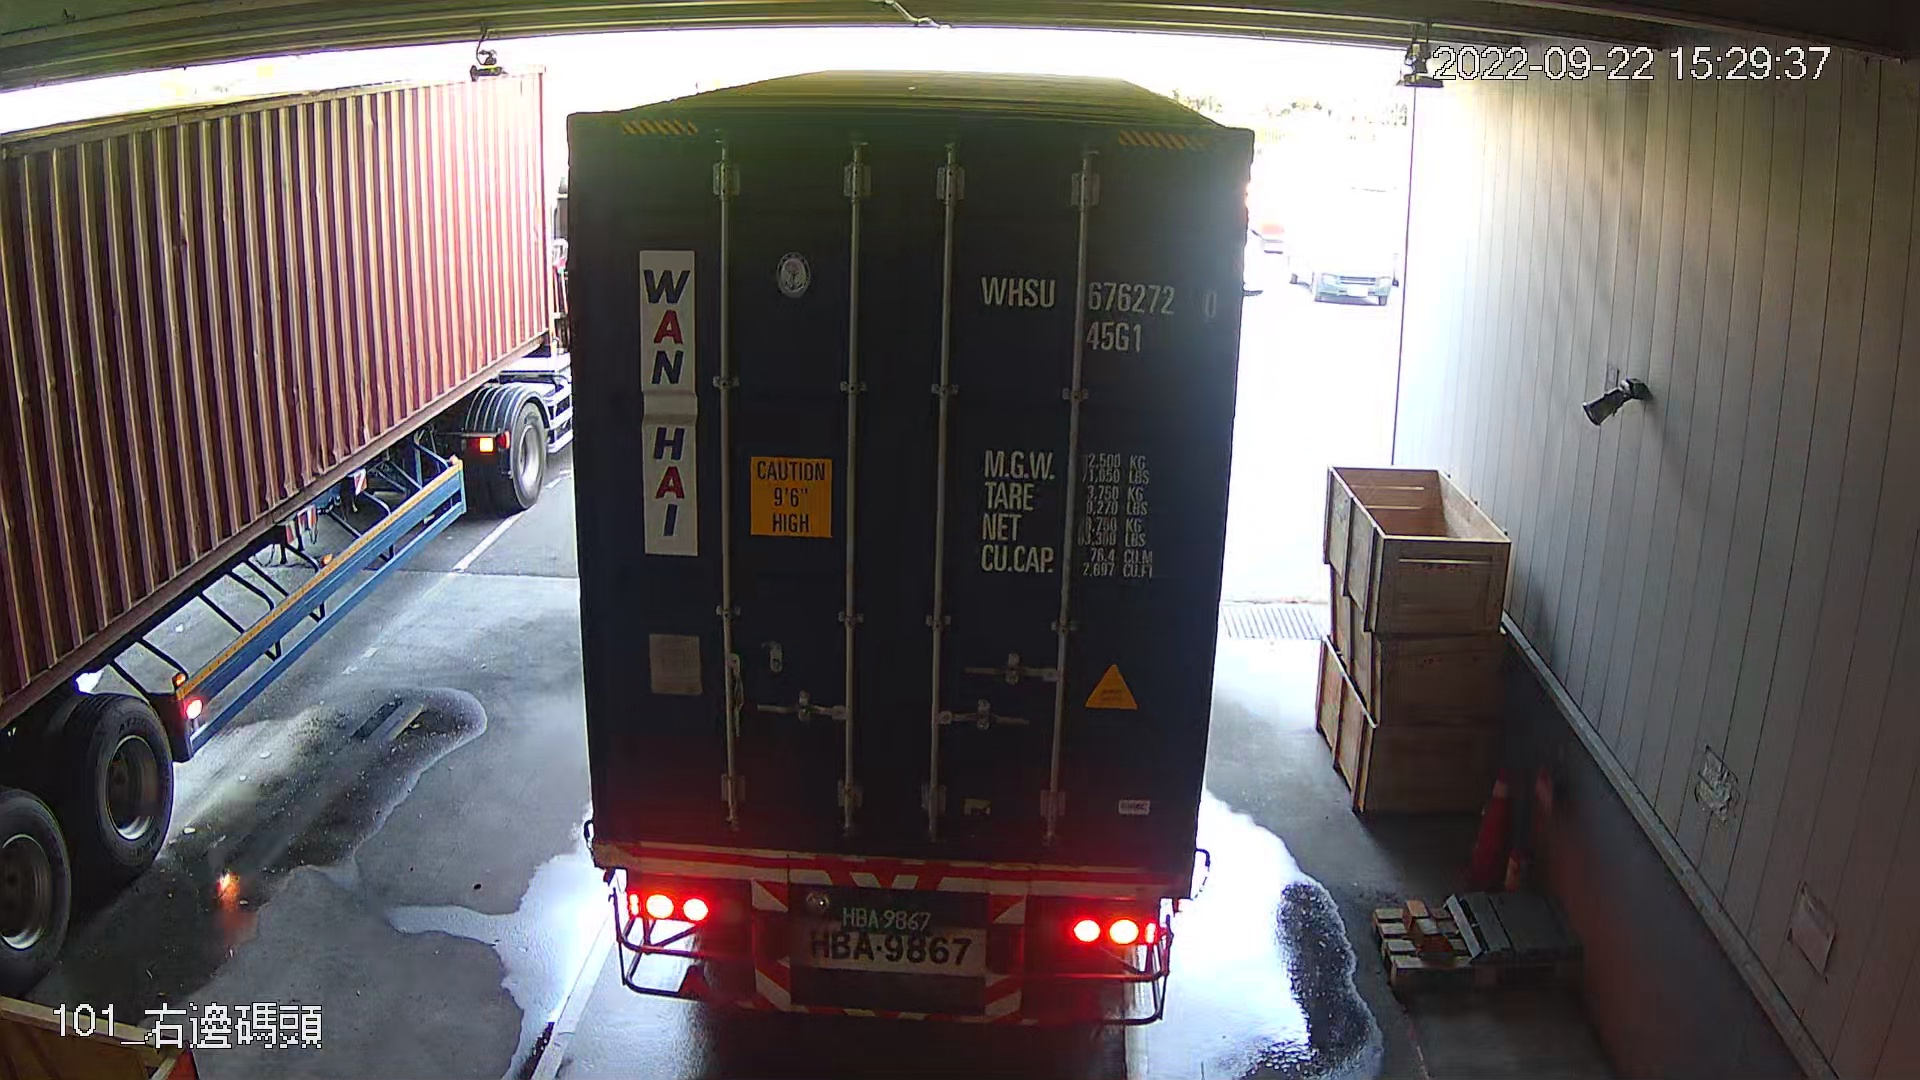container: (964, 266, 1226, 363)
